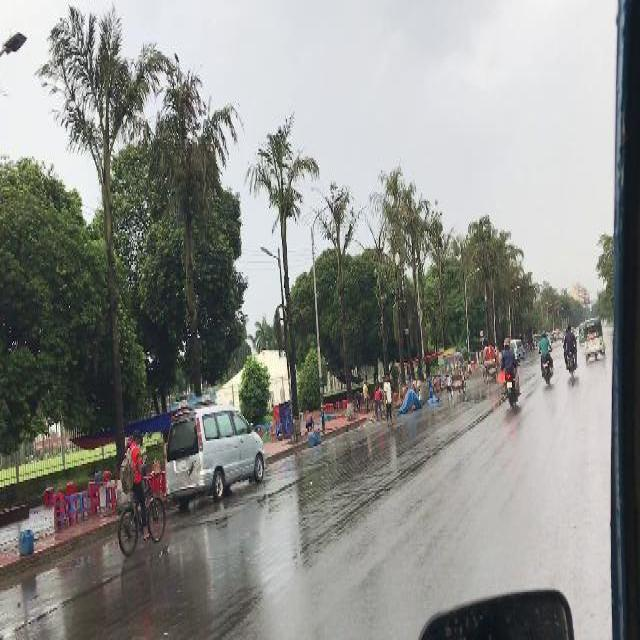bicycle: (118, 428, 166, 556)
minivan: (166, 406, 266, 501), (512, 338, 526, 359)
motorbike: (500, 362, 520, 406), (562, 325, 578, 379), (537, 345, 553, 384)
rickshaw: (449, 351, 467, 396), (484, 344, 498, 381)
three wheelers -CNG-: (583, 317, 605, 362), (577, 320, 583, 341)
